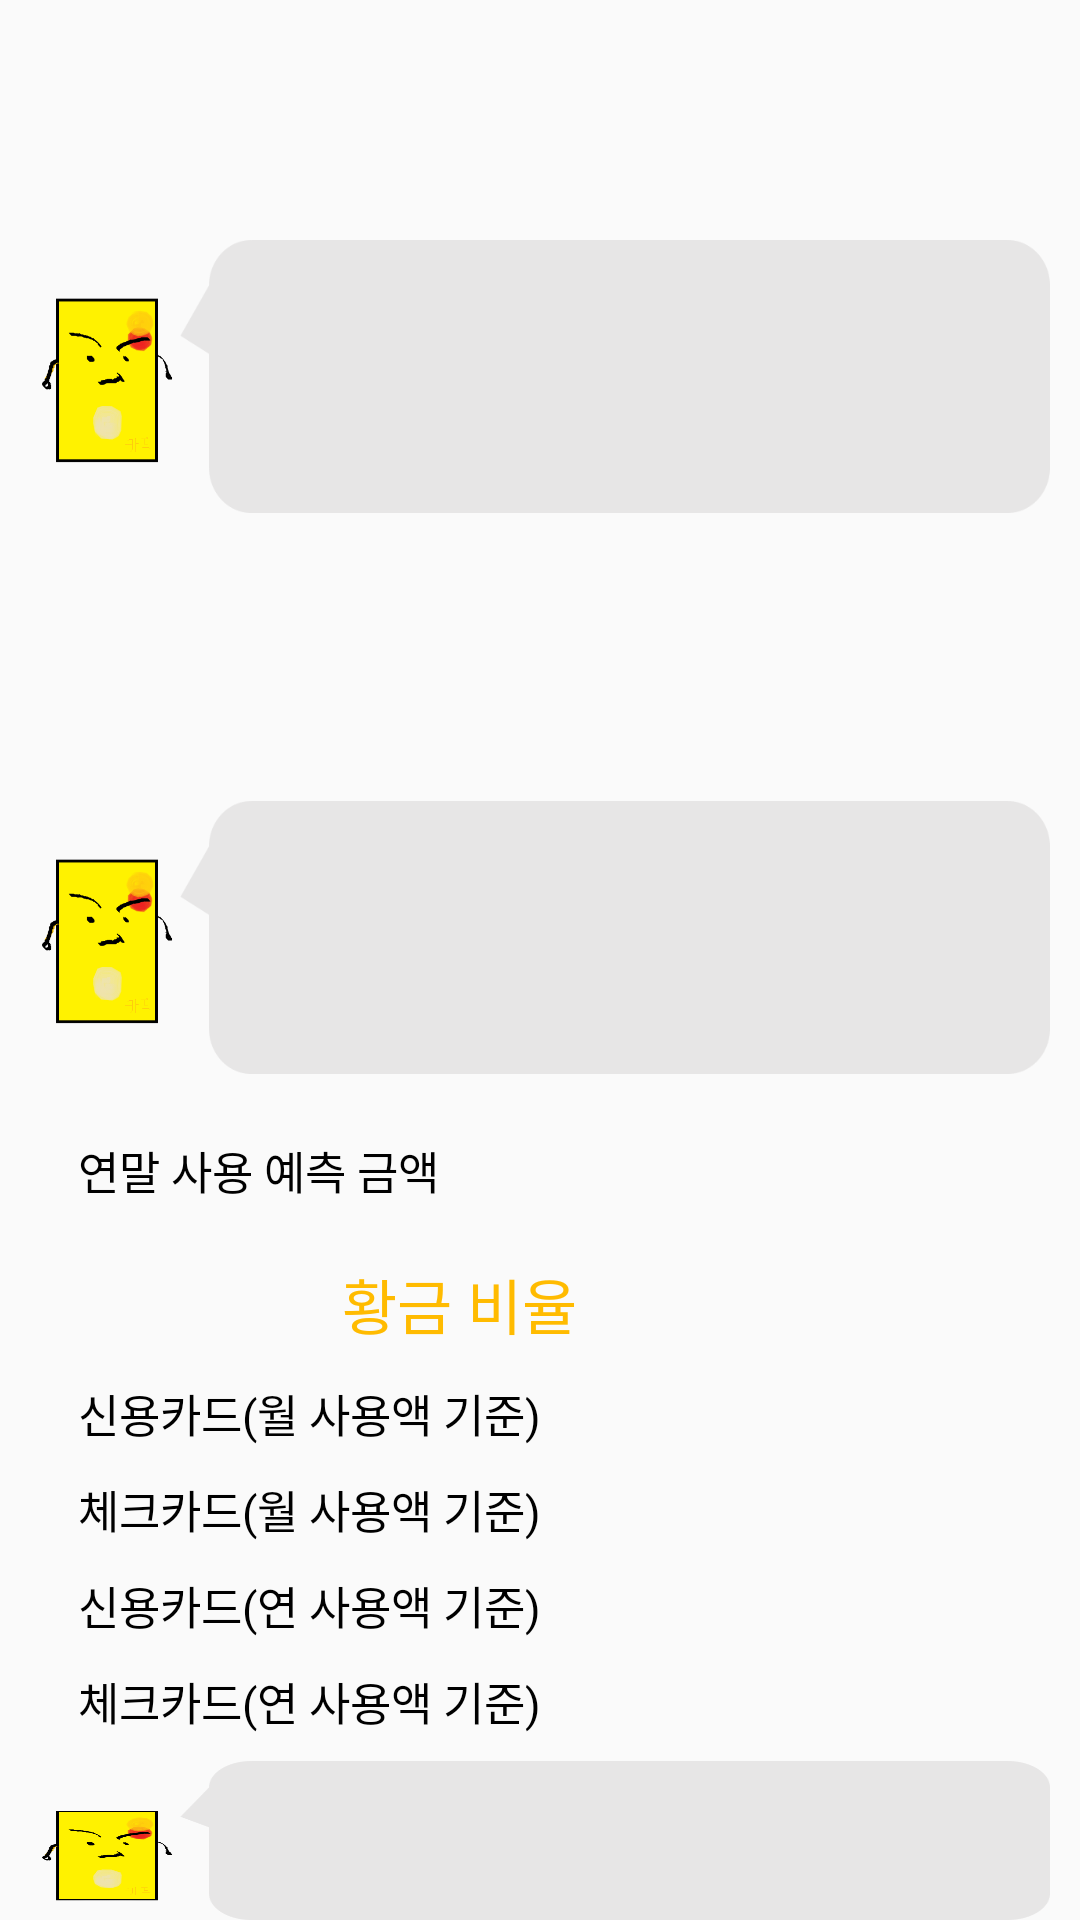

Icons on this 1080×1920 Android screen, each with its box as (x1, y1, x2, y2):
card char: (42, 298, 172, 462), (42, 859, 172, 1023), (42, 1811, 172, 1901)
